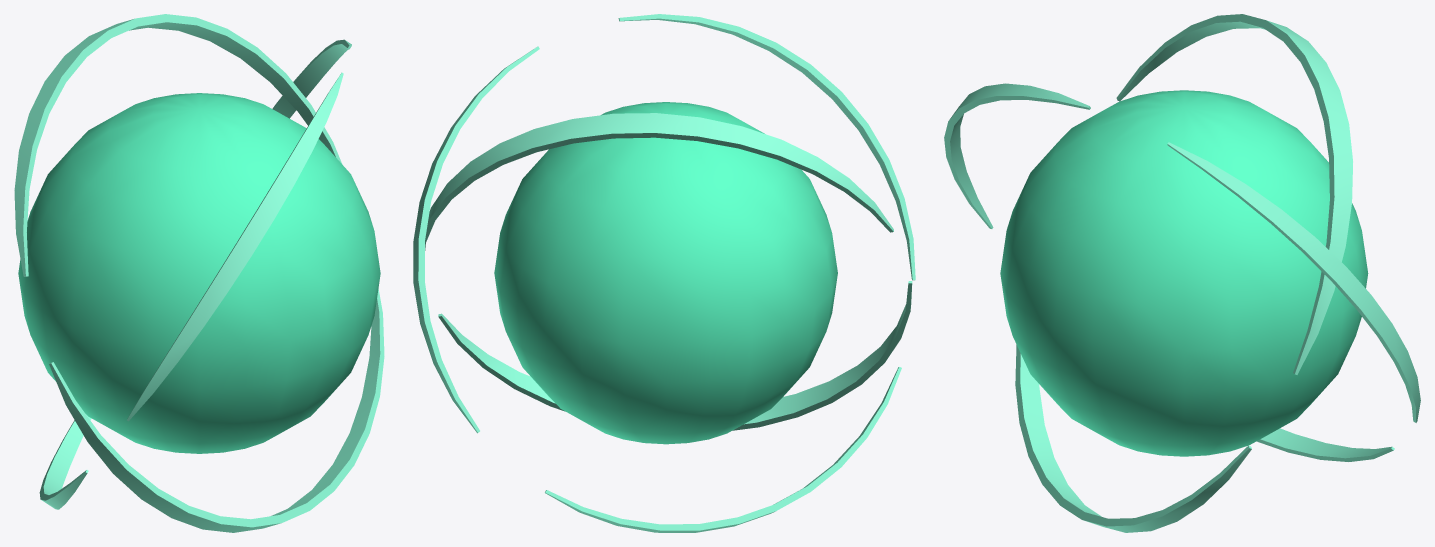
Rendered from HealOrb.fbx.
The picture shows the model from 3 angles, left to right: view 1: azimuth 30°, elevation 25°; view 2: azimuth 150°, elevation 25°; view 3: azimuth 270°, elevation 25°; orthographic projection. The views are drawn at different scales.
Parts seen in each view (by area): view 1: Shell, Ring1, Ring2; view 2: Shell, Ring1, Ring2; view 3: Shell, Ring1, Ring2.
Boxes of the visible parts, x1=… form: Shell: x1=18, y1=93, x2=380, y2=453; Ring1: x1=14, y1=14, x2=384, y2=532; Ring2: x1=39, y1=39, x2=351, y2=509; Shell: x1=494, y1=102, x2=837, y2=444; Ring1: x1=425, y1=113, x2=912, y2=430; Ring2: x1=413, y1=14, x2=915, y2=532; Shell: x1=1000, y1=90, x2=1368, y2=456; Ring1: x1=1015, y1=14, x2=1352, y2=532; Ring2: x1=944, y1=83, x2=1420, y2=461.
Bounding box in the file's own units: 0.3976 × 0.3949 × 0.3888.
